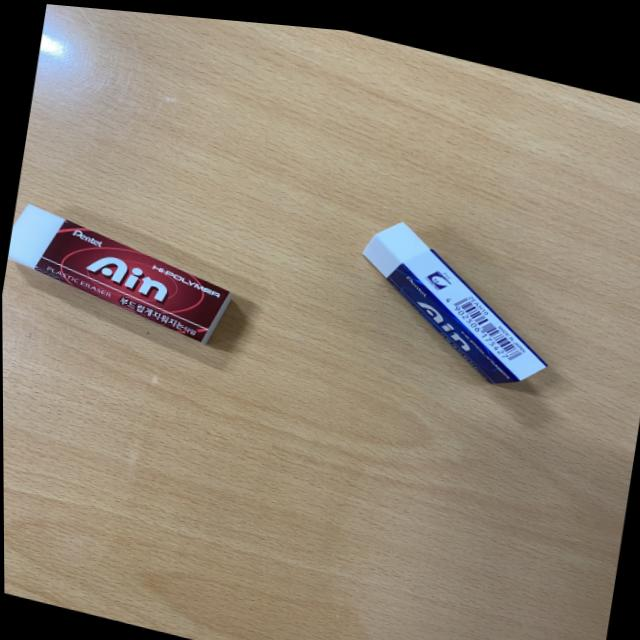blue: (341, 196, 570, 395)
red: (2, 190, 247, 357)
